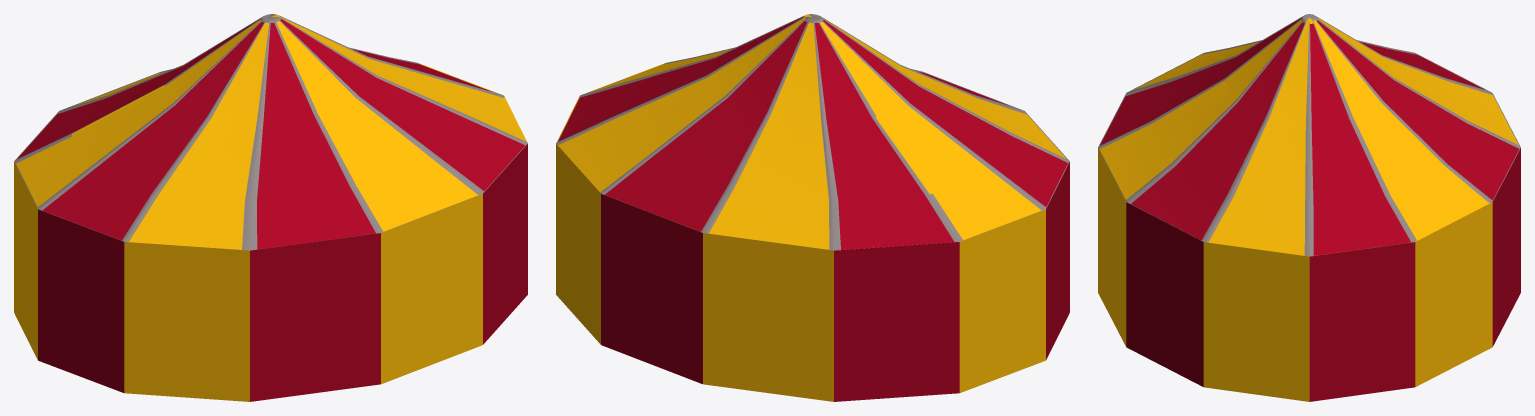
File: circusScene2.fbx
3 views of the same model, side by side, from view 1: azimuth 30°, elevation 25°; view 2: azimuth 150°, elevation 25°; view 3: azimuth 270°, elevation 25° (orthographic). The views are drawn at different scales.
Visible parts, largest first — view 1: polySurface2, polySurface1; view 2: polySurface2, polySurface1; view 3: polySurface2, polySurface1.
Part boxes in pixels (box(x1,y1,x2,y2)): polySurface2: box(14, 14, 527, 250); polySurface1: box(14, 144, 527, 401); polySurface2: box(556, 14, 1069, 250); polySurface1: box(556, 144, 1069, 401); polySurface2: box(1098, 14, 1520, 256); polySurface1: box(1098, 148, 1520, 401).
Size of the model in its own units: 906 by 532 by 742.
